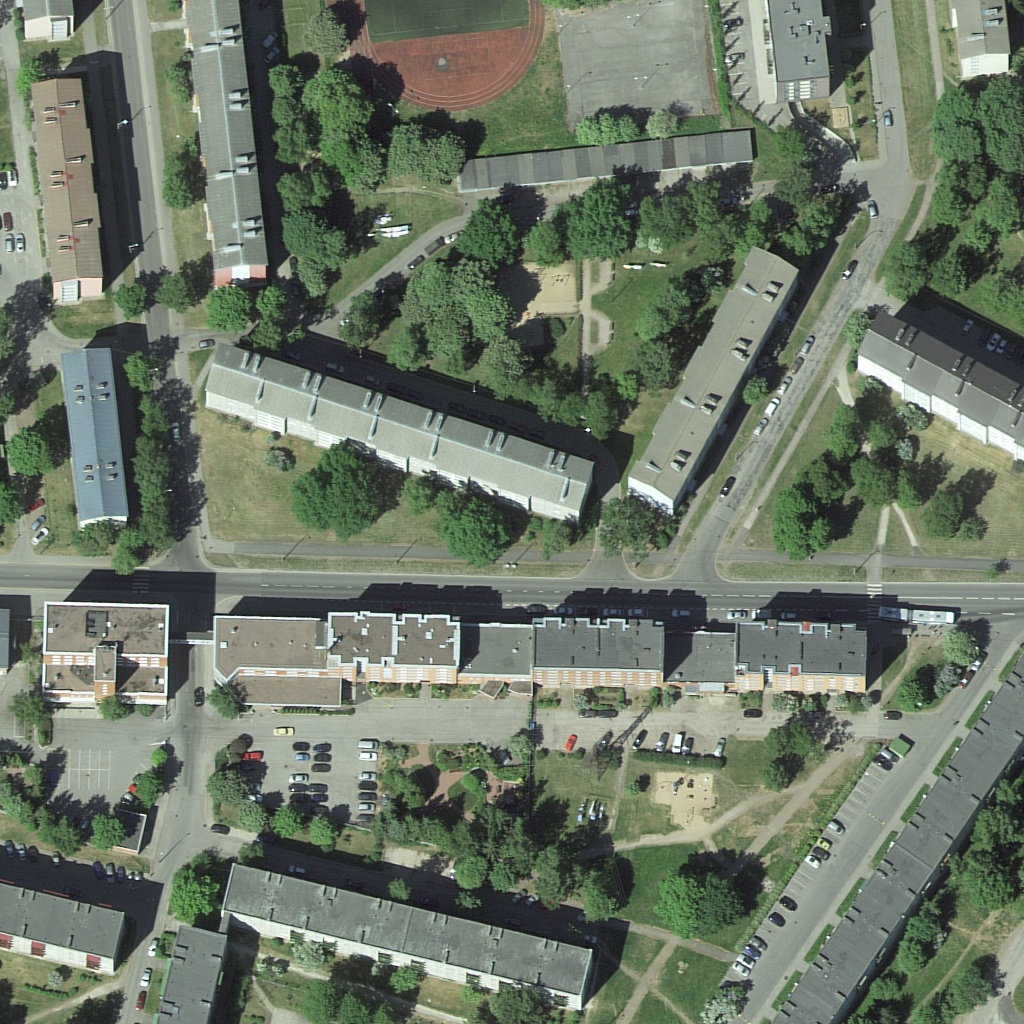building: (771, 642, 1023, 1023), (203, 341, 596, 526), (223, 864, 598, 1008), (623, 238, 802, 517), (178, 1, 275, 285), (845, 309, 1024, 458), (29, 72, 105, 303), (42, 598, 181, 712), (57, 344, 134, 528), (729, 616, 872, 699), (1, 883, 137, 970), (323, 610, 464, 689), (529, 612, 664, 686), (210, 613, 327, 679), (761, 1, 835, 103), (163, 925, 236, 1024), (947, 1, 1012, 79)
